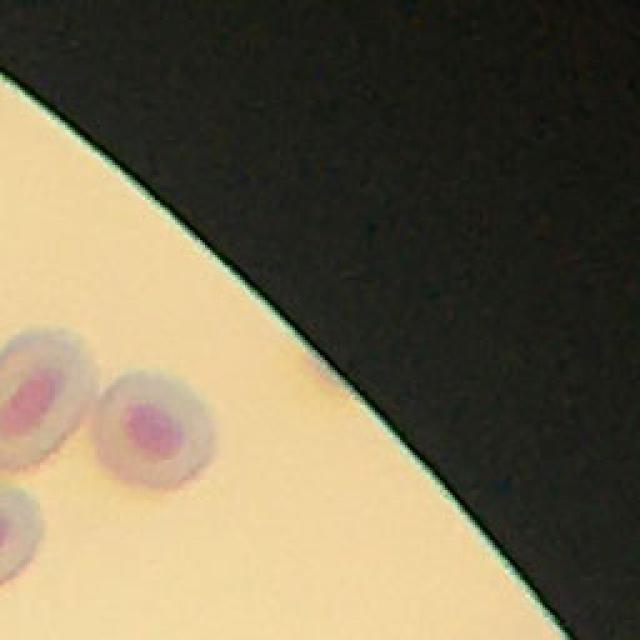RBC: (88, 368, 219, 493), (0, 325, 101, 476), (0, 481, 46, 587)
